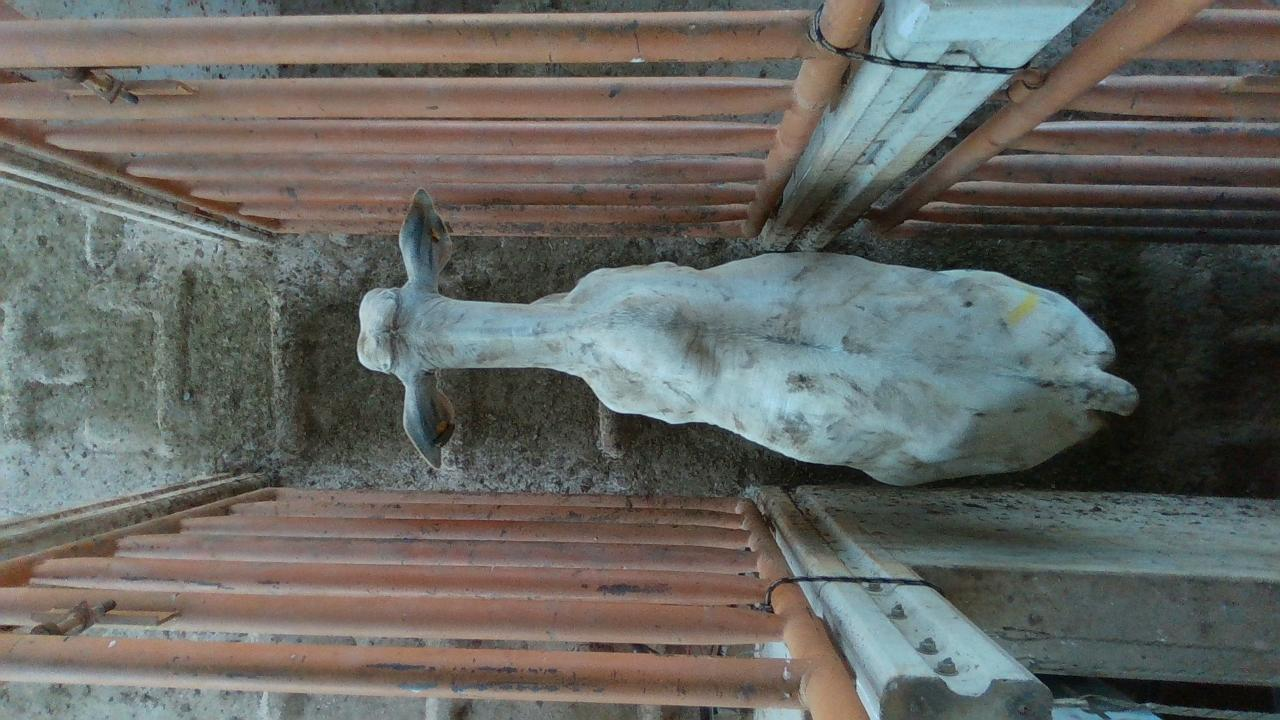cattle: (354, 186, 1140, 487)
